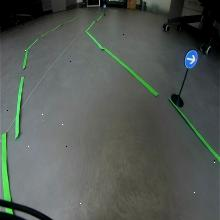right: (184, 49, 198, 69)
